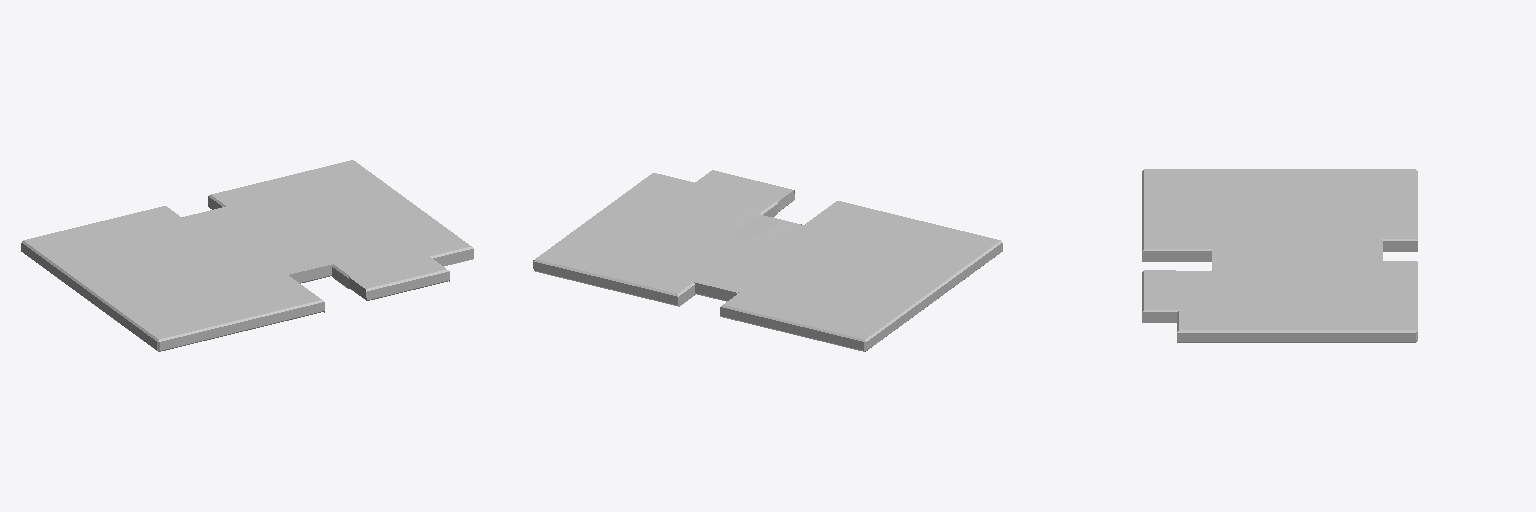
The model's file is water.obj.
3 renders of one model, left to right at view 1: azimuth 30°, elevation 25°; view 2: azimuth 150°, elevation 25°; view 3: azimuth 270°, elevation 25°, orthographic.
Parts seen in each view (by area): view 1: water; view 2: water; view 3: water.
Part boxes in pixels (bbox=[...]): water: bbox=[21, 160, 473, 351]; water: bbox=[533, 170, 1002, 351]; water: bbox=[1142, 169, 1417, 342].
Size of the model in its own units: 3.96 by 0.1462 by 2.83.